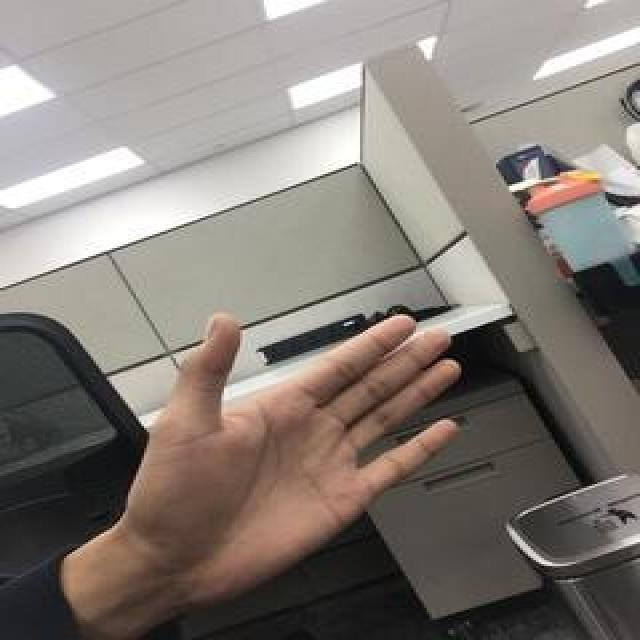hand: (120, 310, 459, 588)
